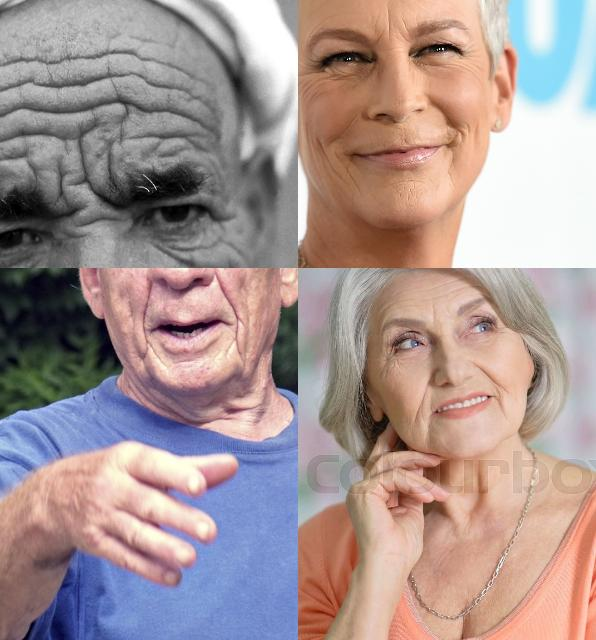chin: (391, 178, 419, 200)
crows_feet: (302, 54, 324, 96), (207, 196, 239, 224), (464, 42, 482, 80), (381, 343, 399, 375)
forehead: (112, 45, 170, 128), (45, 56, 103, 124), (176, 72, 224, 148), (0, 65, 32, 118), (0, 130, 34, 174), (415, 278, 479, 300)
frown_line: (94, 134, 126, 190), (67, 210, 117, 238), (74, 144, 96, 200), (375, 8, 407, 46), (49, 162, 74, 210), (427, 301, 445, 327)
gummy_smile: (136, 279, 160, 327), (413, 373, 439, 417), (210, 276, 238, 312), (330, 112, 362, 142), (432, 95, 462, 124), (475, 361, 504, 389)
sad_smile: (324, 150, 356, 186), (415, 409, 443, 449), (226, 327, 252, 363), (137, 328, 159, 362), (491, 389, 513, 421), (448, 134, 466, 172)
